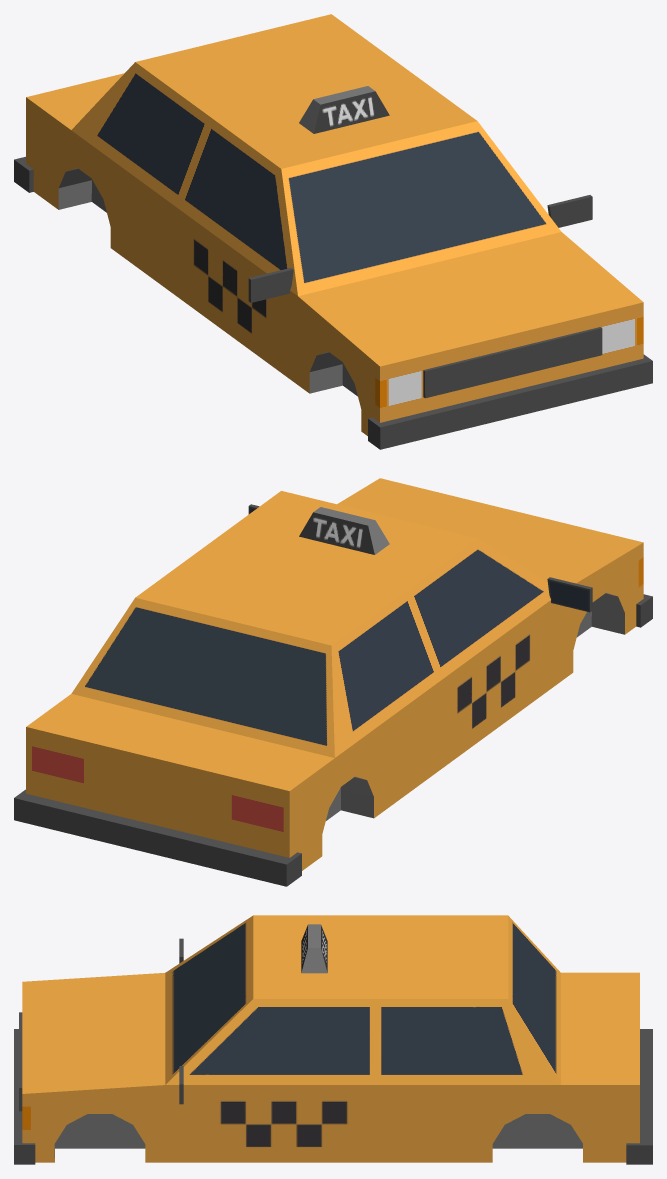
File: TaxiSedan_2.fbx
3 renders of one model, top to bottom at view 1: azimuth 30°, elevation 25°; view 2: azimuth 150°, elevation 25°; view 3: azimuth 270°, elevation 25°, orthographic. The views are drawn at different scales.
Parts seen in each view (by area): view 1: TaxiSedan; view 2: TaxiSedan; view 3: TaxiSedan.
Part boxes in pixels (x1,y1,x2,y2): TaxiSedan: [14, 14, 652, 449]; TaxiSedan: [14, 478, 652, 886]; TaxiSedan: [14, 915, 652, 1164].
Size of the model in its own units: 263 by 144 by 488.
